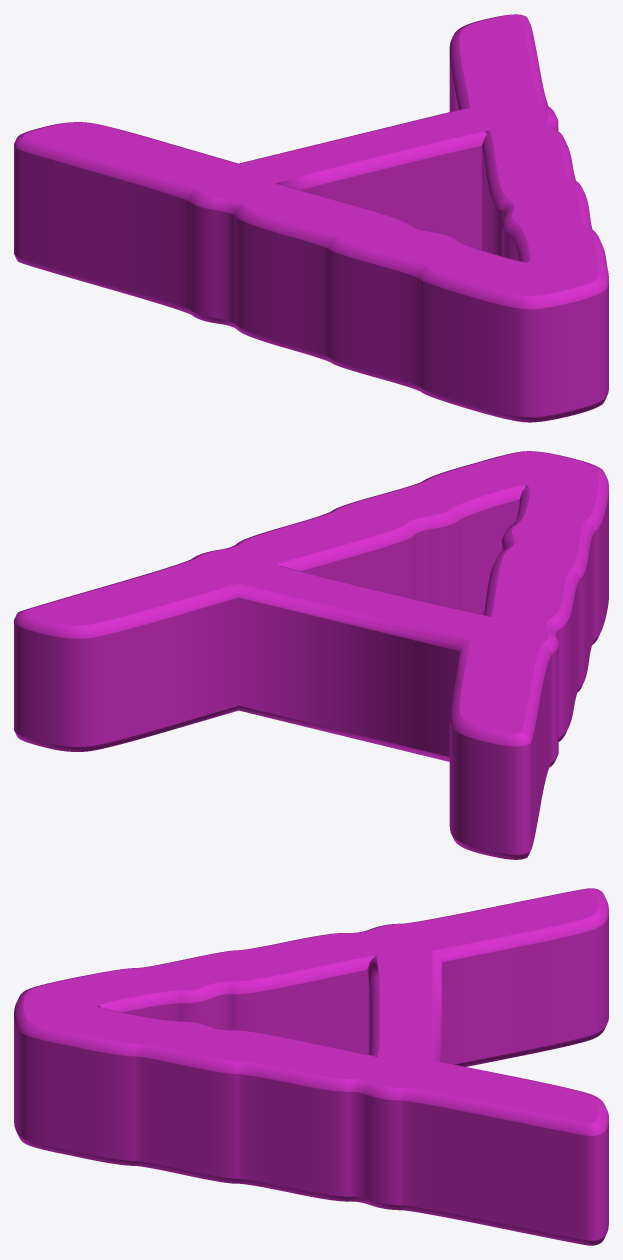
The model's file is Blocky_LetterA.fbx.
3 renders of one model, top to bottom at view 1: azimuth 30°, elevation 25°; view 2: azimuth 150°, elevation 25°; view 3: azimuth 270°, elevation 25°, orthographic. The views are drawn at different scales.
Visible parts, largest first — view 1: BlockyLetter_A; view 2: BlockyLetter_A; view 3: BlockyLetter_A.
Part boxes in pixels (<box>): BlockyLetter_A: <box>14,14,608,422</box>; BlockyLetter_A: <box>14,451,608,859</box>; BlockyLetter_A: <box>14,888,608,1245</box>.
Size of the model in its own units: 0.5971 by 0.14 by 0.618.
